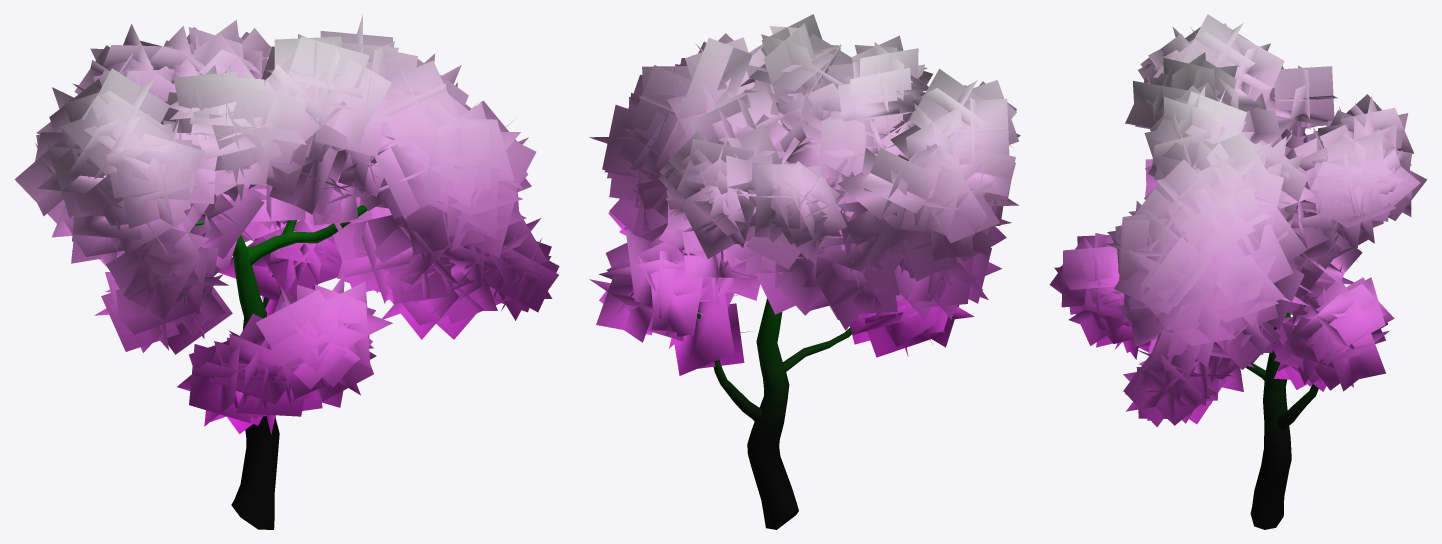
File: TSI_Amberleaf_Tree_03A.fbx
3 renders of one model, left to right at view 1: azimuth 30°, elevation 25°; view 2: azimuth 150°, elevation 25°; view 3: azimuth 270°, elevation 25°, orthographic. The views are drawn at different scales.
Visible parts, largest first — view 1: TSI_Amberleaf_Tree_03A_LOD0; view 2: TSI_Amberleaf_Tree_03A_LOD0; view 3: TSI_Amberleaf_Tree_03A_LOD0.
Part boxes in pixels (x1,y1,x2,y2): TSI_Amberleaf_Tree_03A_LOD0: (14, 14, 559, 529); TSI_Amberleaf_Tree_03A_LOD0: (589, 14, 1020, 529); TSI_Amberleaf_Tree_03A_LOD0: (1049, 14, 1427, 529).
Size of what is drawn, in the model's own units: 1124 by 1176 by 912.
